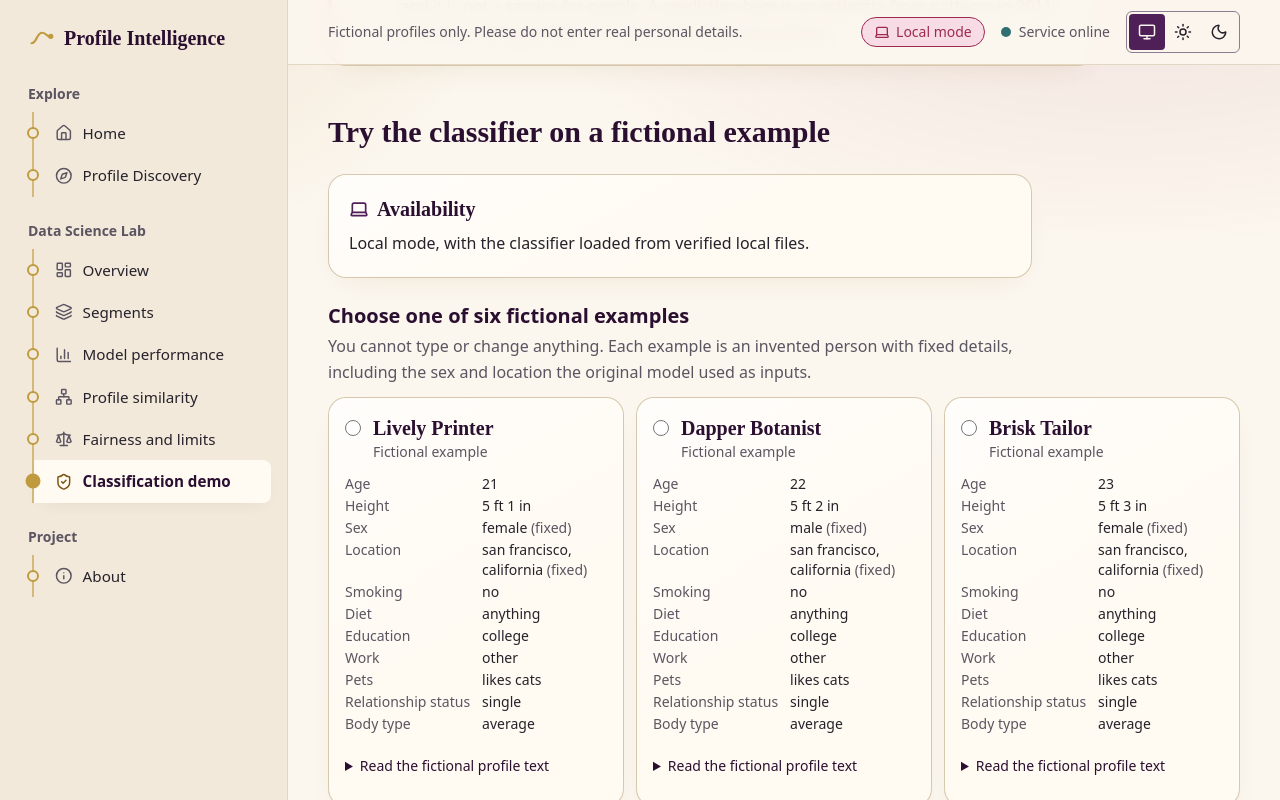
Test: the demonstration in local mode › cannot run until an example is chosen
The width and height of the screenshot is (1280, 800).
(page scrolled)
Click the radio button labelled "Brisk Tailor Fictional example": x=969, y=428 [961,420,977,436]
(page scrolled)
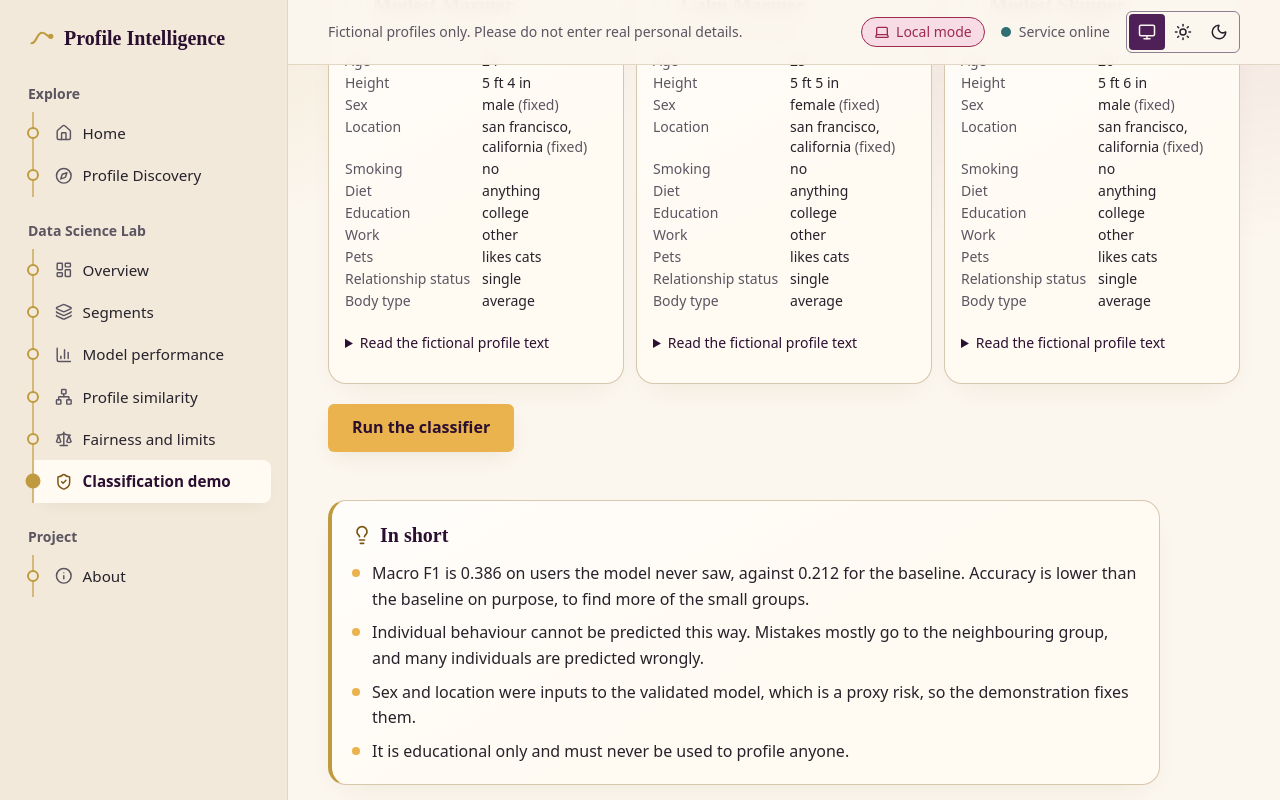
Expected: the button "Run the classifier" is enabled, [328,404,514,452]
